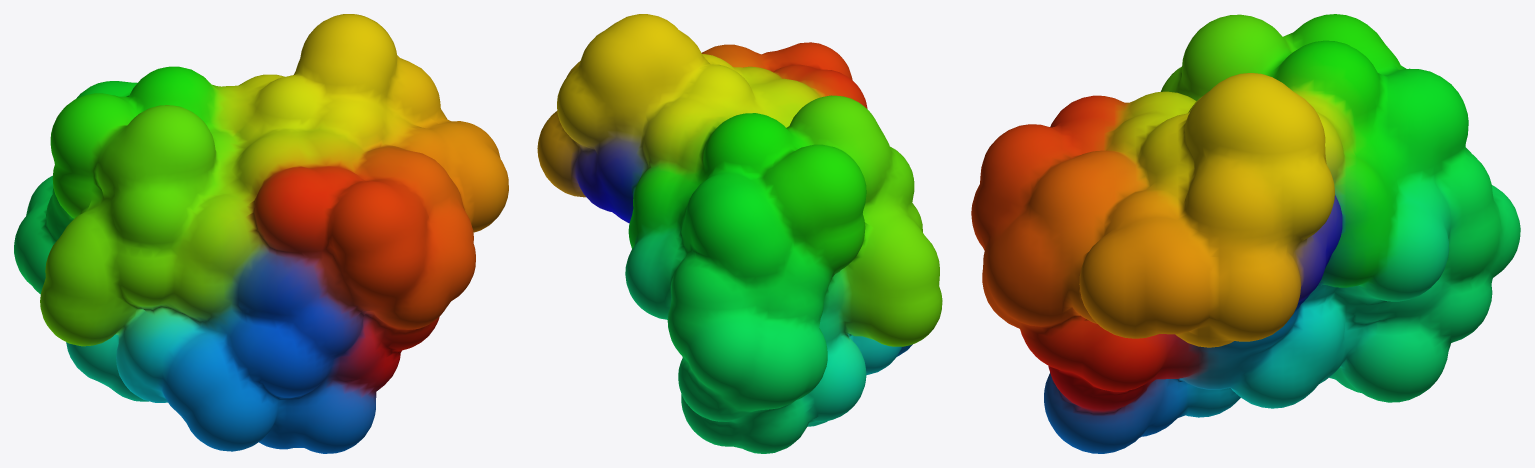
The model's file is SA_1CRN.fbx.
3 renders of one model, left to right at view 1: azimuth 30°, elevation 25°; view 2: azimuth 150°, elevation 25°; view 3: azimuth 270°, elevation 25°, orthographic. The views are drawn at different scales.
Parts seen in each view (by area): view 1: 1CRN_0; view 2: 1CRN_0; view 3: 1CRN_0.
Part boxes in pixels (x1=…): 1CRN_0: x1=14, y1=14, x2=508, y2=453; 1CRN_0: x1=537, y1=14, x2=942, y2=453; 1CRN_0: x1=971, y1=14, x2=1520, y2=453.
Bounding box in the file's own units: 33.76 × 28.33 × 33.65.
